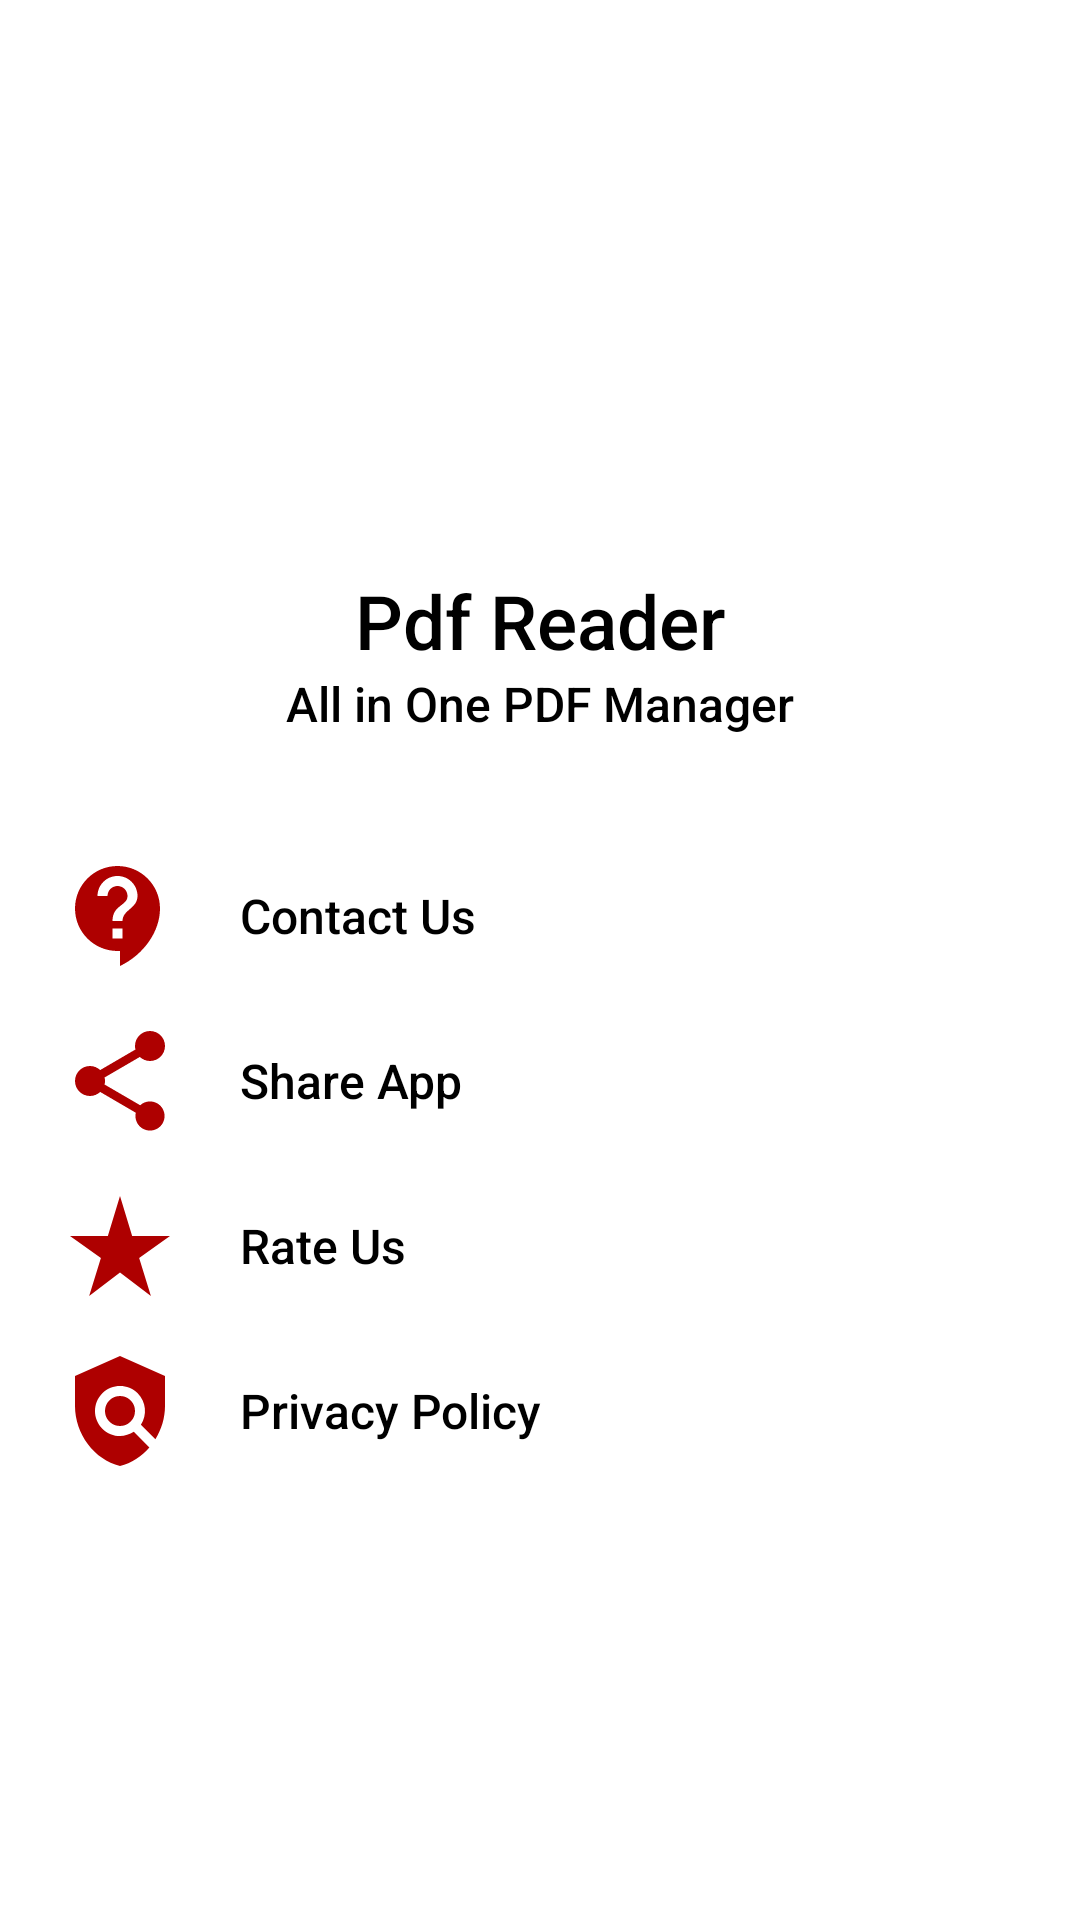

Icon bounding boxes for this 1080*1920 phone screenshot, format box(x1, y1, x2, y2):
contact support: box(75, 866, 160, 966)
star rate: box(70, 1196, 170, 1296)
